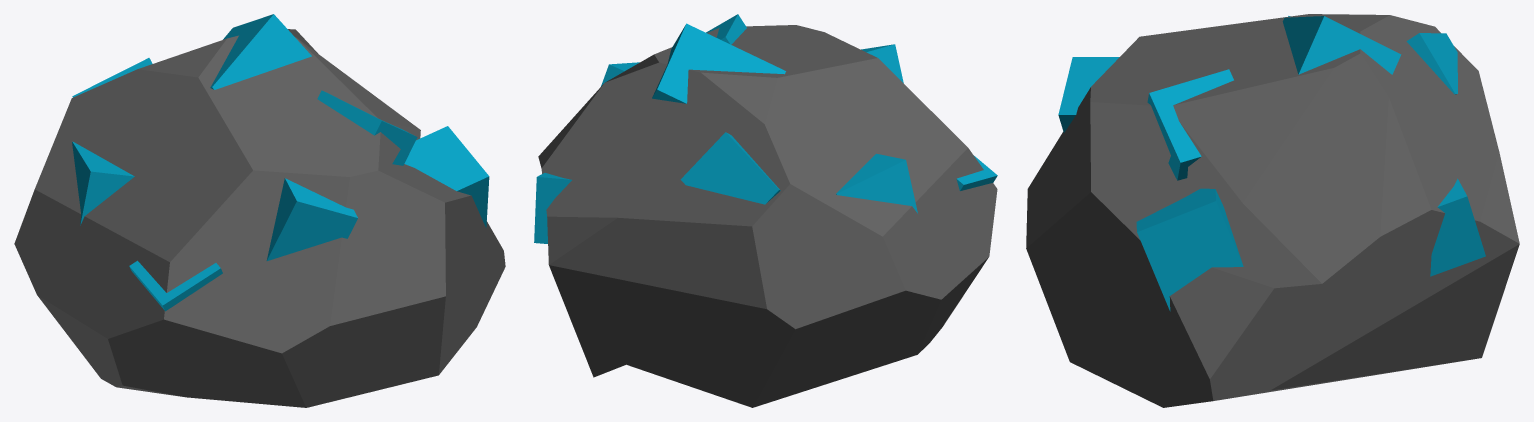
Rendered from diamond.fbx.
3 renders of one model, left to right at view 1: azimuth 30°, elevation 25°; view 2: azimuth 150°, elevation 25°; view 3: azimuth 270°, elevation 25°, orthographic. The views are drawn at different scales.
Visible parts, largest first — view 1: Sphere, Cube.003, Cube, Cube.001, Cube.004, Cube.005, Cube.007; view 2: Sphere, Cube, Cube.006, Cube.004, Cube.002, Cube.003, Cube.007, Cube.005; view 3: Sphere, Cube.001, Cube, Cube.005, Cube.002, Cube.003, Cube.006.
Boxes of the visible parts, bbox=[...] form: Sphere: bbox=[14, 29, 505, 407]; Cube.003: bbox=[266, 178, 357, 260]; Cube: bbox=[210, 14, 311, 89]; Cube.001: bbox=[404, 126, 489, 227]; Cube.004: bbox=[72, 141, 134, 225]; Cube.005: bbox=[317, 90, 417, 165]; Cube.007: bbox=[129, 260, 222, 311]; Sphere: bbox=[538, 25, 997, 407]; Cube: bbox=[652, 23, 785, 103]; Cube.006: bbox=[680, 132, 780, 204]; Cube.004: bbox=[836, 153, 917, 213]; Cube.002: bbox=[534, 173, 571, 243]; Cube.003: bbox=[861, 44, 903, 83]; Cube.007: bbox=[956, 156, 997, 190]; Cube.005: bbox=[706, 14, 746, 44]; Sphere: bbox=[1026, 14, 1519, 407]; Cube.001: bbox=[1136, 188, 1243, 311]; Cube: bbox=[1282, 16, 1401, 74]; Cube.005: bbox=[1147, 69, 1233, 180]; Cube.002: bbox=[1430, 178, 1485, 276]; Cube.003: bbox=[1058, 57, 1119, 132]; Cube.006: bbox=[1406, 33, 1457, 94].
Bounding box in the file's own units: 675 × 456 × 615.
